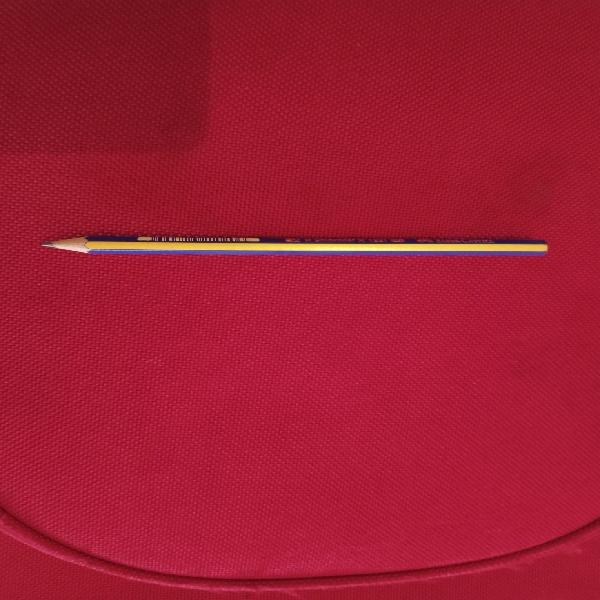pencil: (45, 236, 547, 256)
